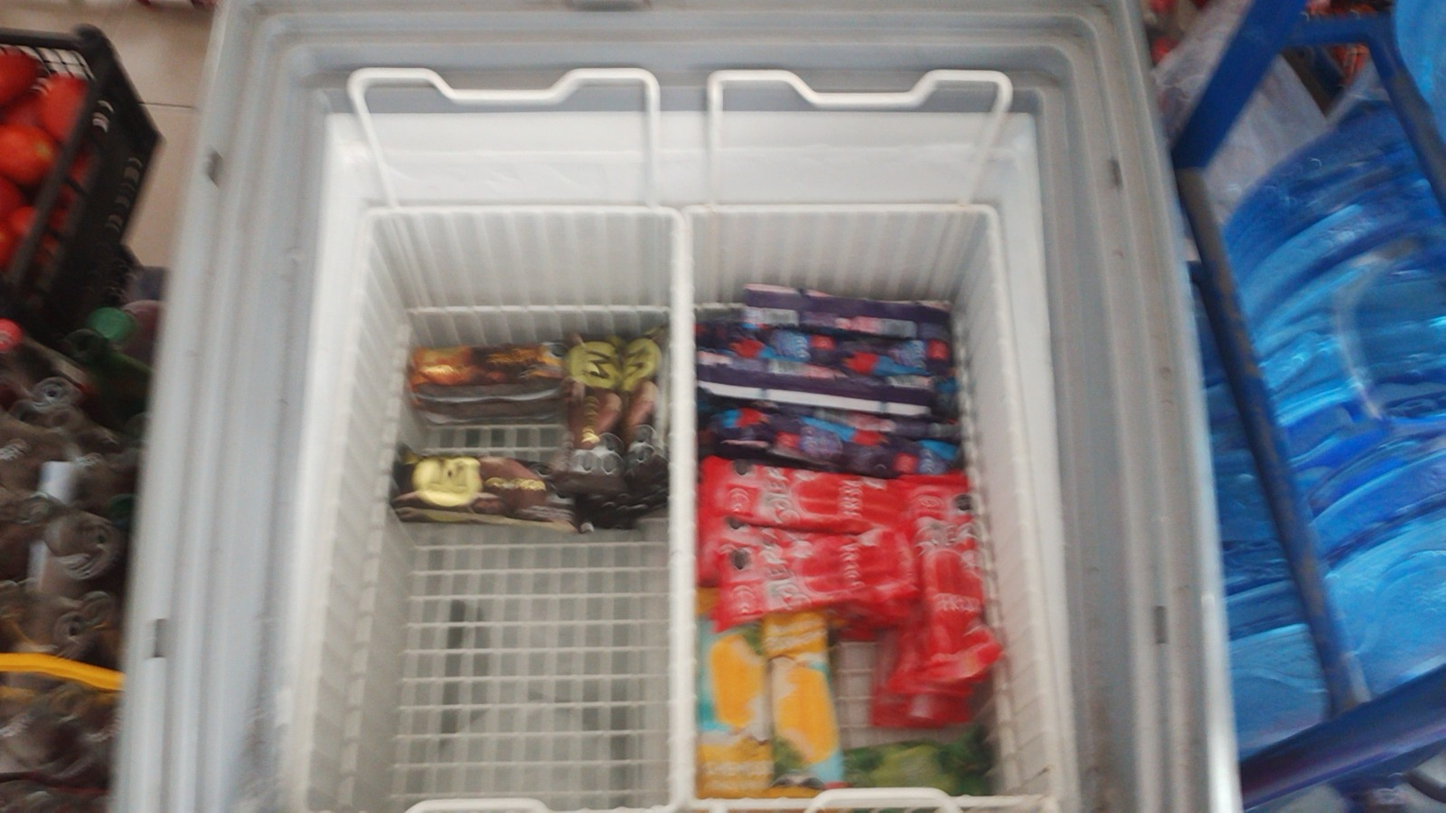rejilla: (993, 217, 1061, 796), (301, 214, 367, 800), (674, 222, 683, 802), (686, 217, 690, 794), (379, 208, 673, 214), (688, 208, 989, 211), (691, 800, 807, 807), (832, 801, 934, 806), (956, 799, 1039, 804)
